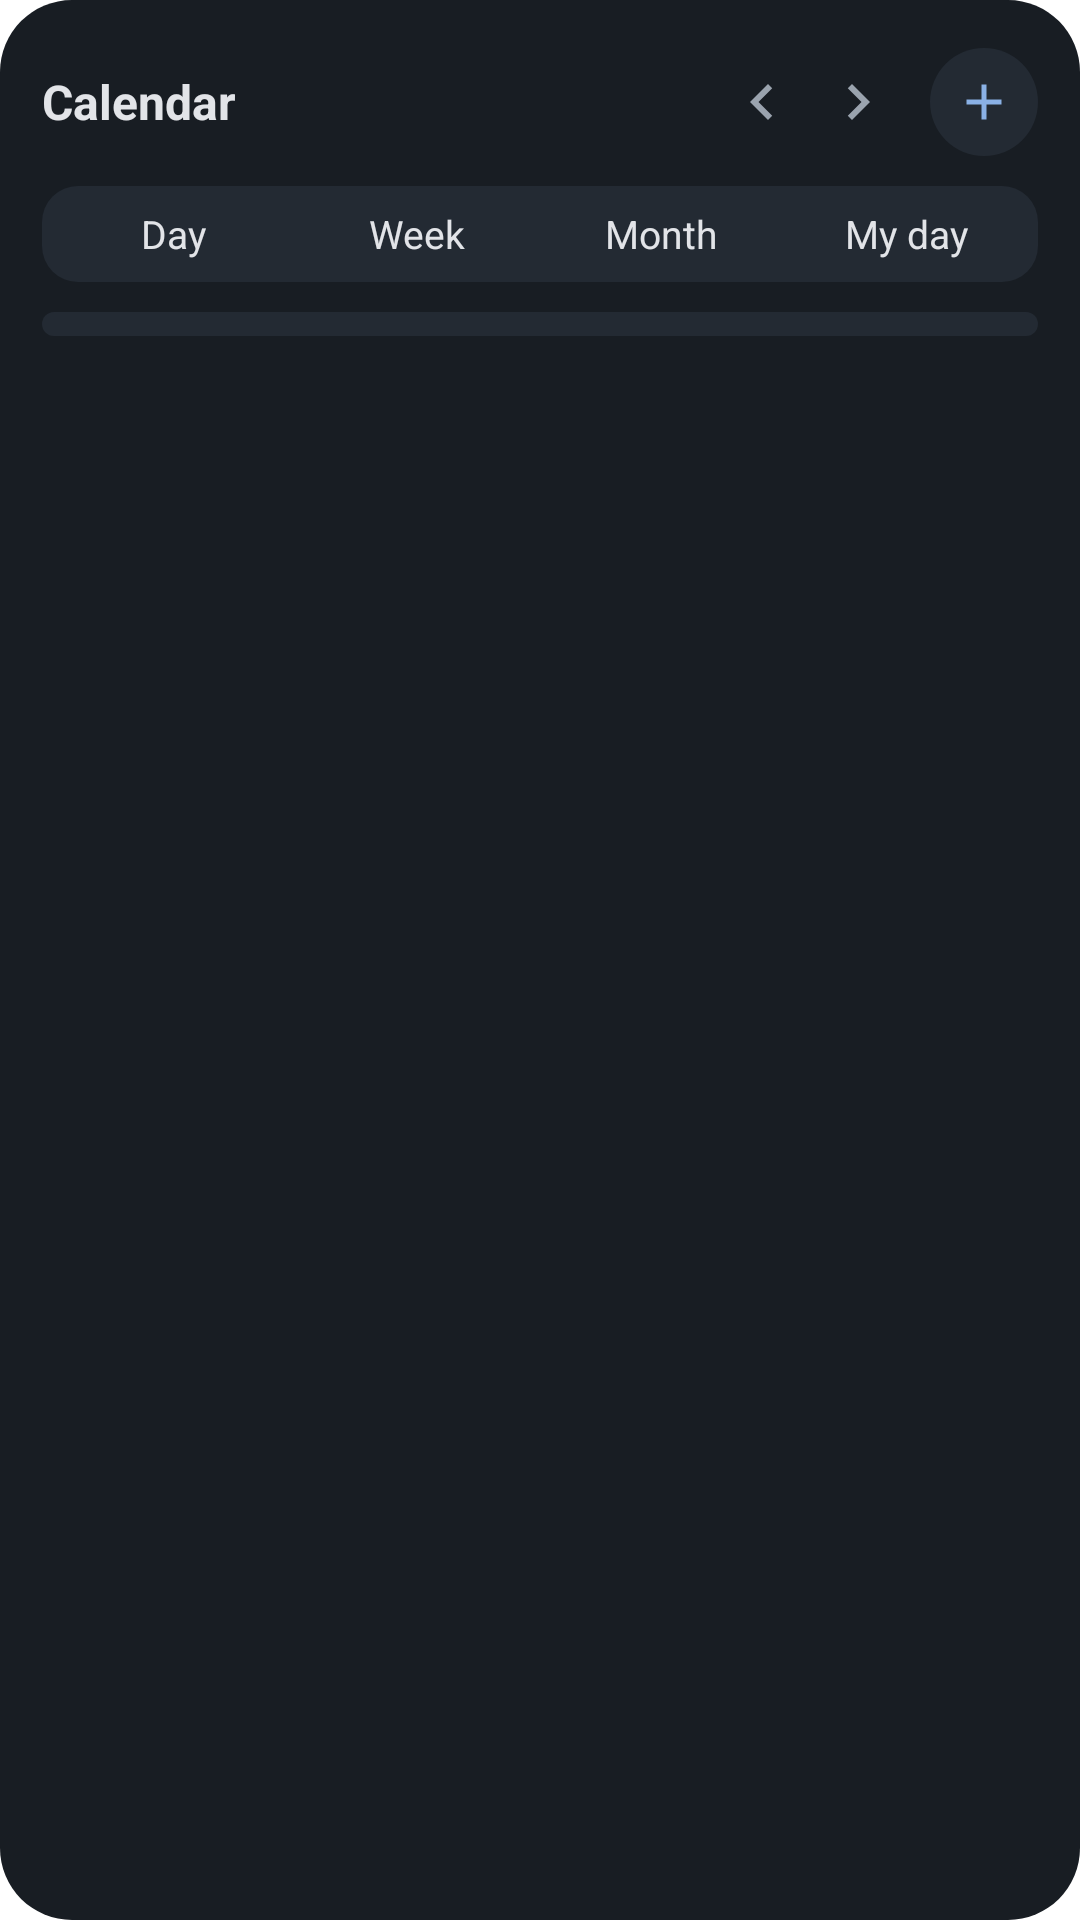

Locate icon controls on the screen. Image size 1080×1920, boxes as detection(x1, y1, x2, y2).
New event: detection(930, 48, 1038, 156)
Next: detection(848, 84, 870, 120)
Previous: detection(750, 84, 772, 120)
